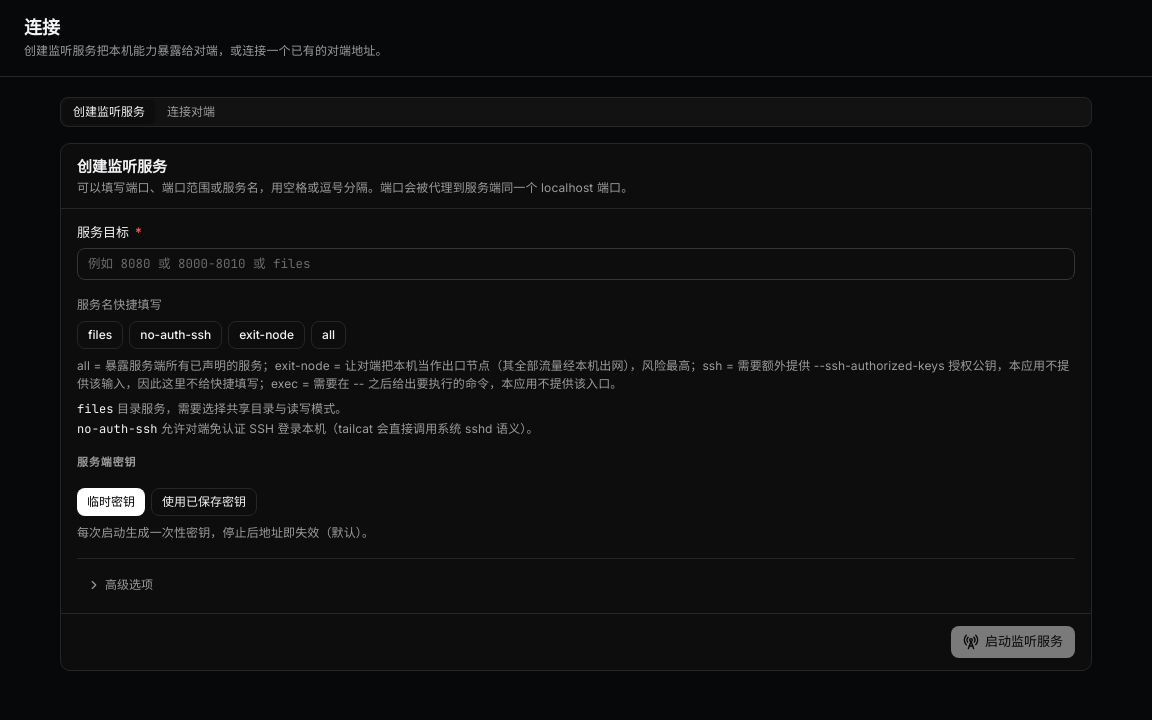
Test: ConnectionsScreen › warns about read-write sharing when the files service is selected
What coordinates should you click on to do the following:
click the button "files"
I would click on:
 (100, 335)
Its box is [77,321,123,349].
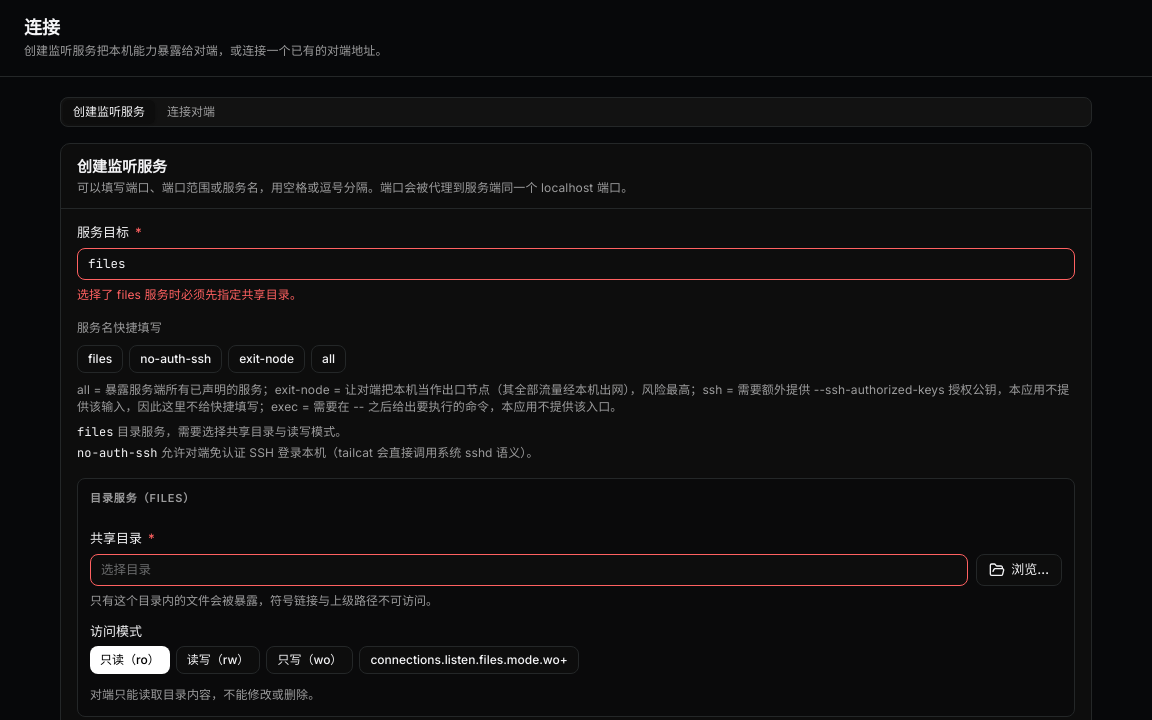
Expected: the heading "目录服务（files）" is shown, [90,491,195,507]
What coordinates should you click on to do the following:
click the button "读写（rw）"
I would click on:
 (218, 660)
Its box is [176,646,260,674].
(page scrolled)
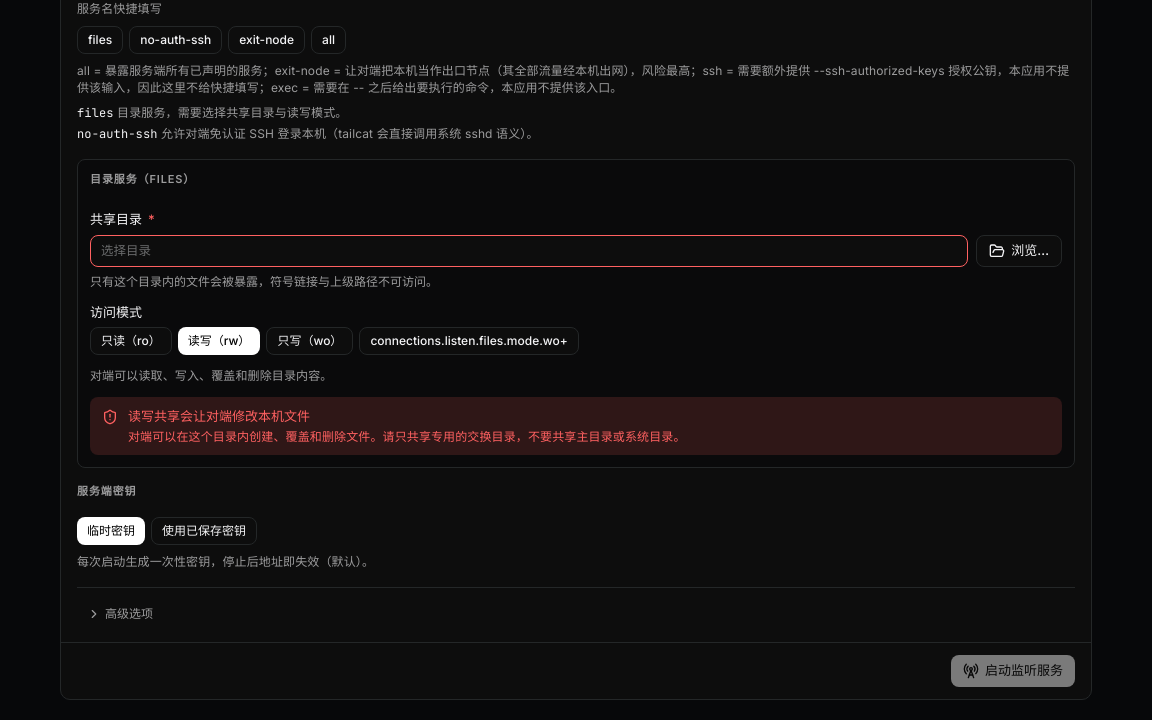
Expected: the button "启动监听服务" is disabled, [951,655,1075,687]
Expected: the text "读写共享会让对端修改本机文件" is shown, [128,408,310,424]
